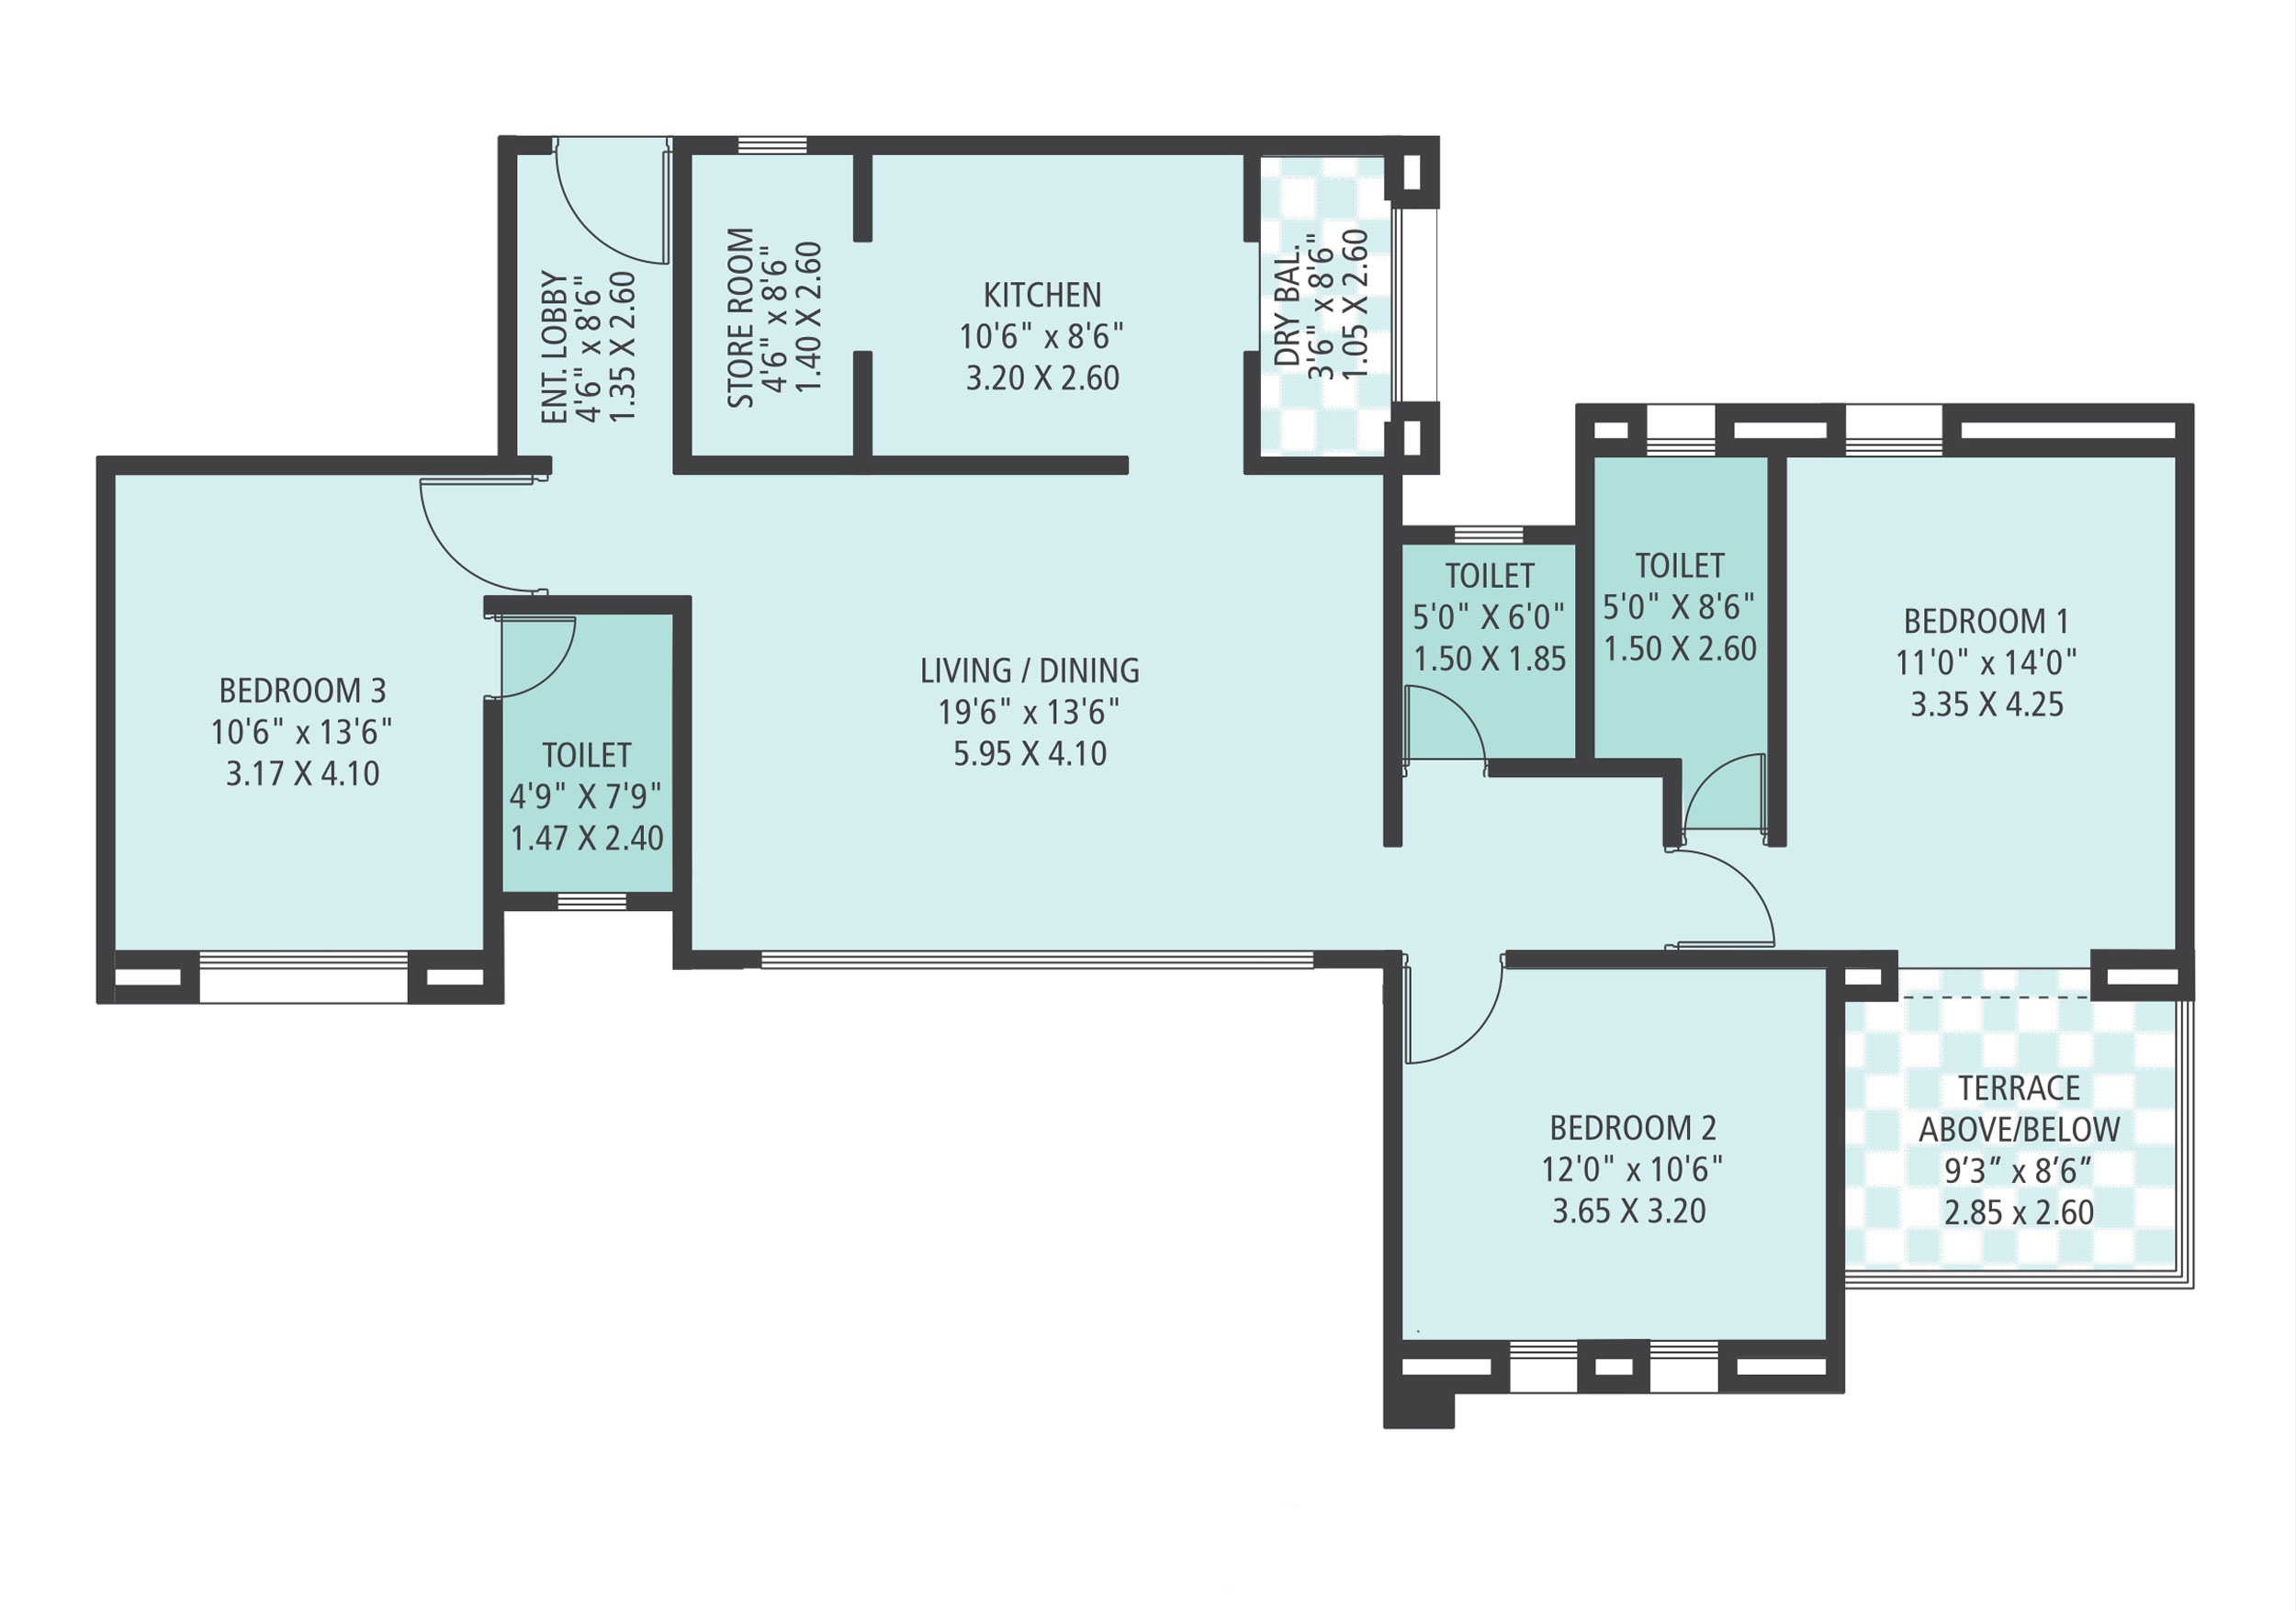door: (408, 476, 516, 597), (565, 154, 673, 274), (1675, 848, 1781, 949), (1404, 969, 1504, 1066), (1682, 749, 1767, 833), (508, 616, 581, 702), (1404, 679, 1485, 756)
